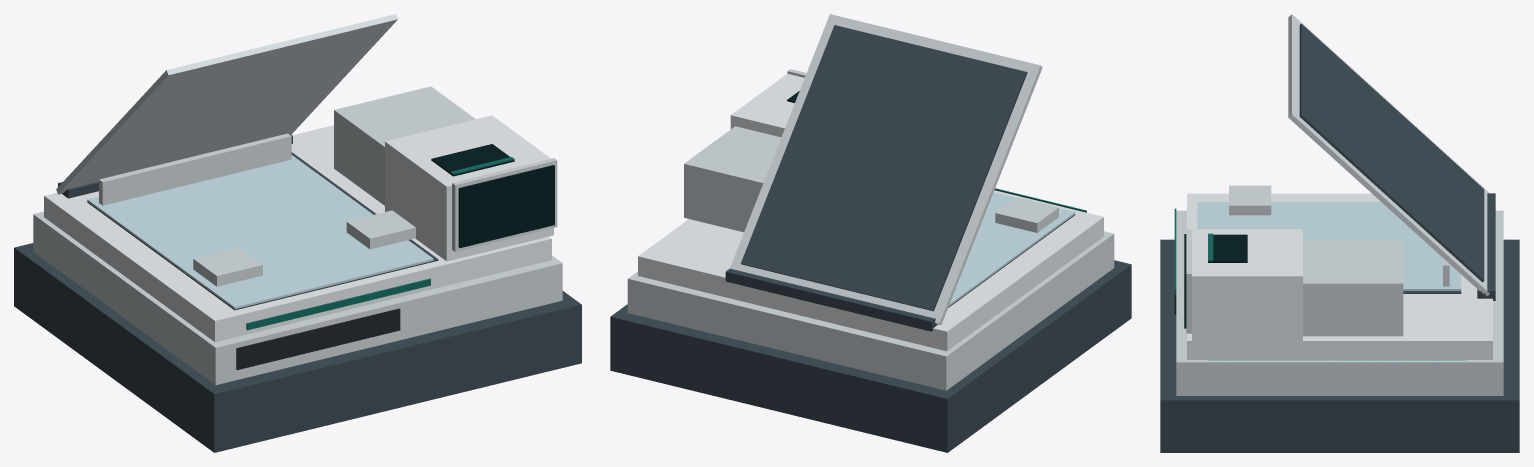
Rendered from desk_scanner.obj.
3 views of the same model, side by side, from view 1: azimuth 30°, elevation 25°; view 2: azimuth 150°, elevation 25°; view 3: azimuth 270°, elevation 25° (orthographic). The views are drawn at different scales.
Parts seen in each view (by area): view 1: desk_scanner_e00, desk_scanner_e04, desk_scanner_e05, desk_scanner_e01, desk_scanner_e02, desk_scanner_e11, desk_scanner_e12, desk_scanner_e14, desk_scanner_e10, desk_scanner_e17, desk_scanner_e07, desk_scanner_e08 (+4 smaller); view 2: desk_scanner_e06, desk_scanner_e00, desk_scanner_e01, desk_scanner_e02, desk_scanner_e05, desk_scanner_e12, desk_scanner_e04, desk_scanner_e09, desk_scanner_e11, desk_scanner_e07; view 3: desk_scanner_e00, desk_scanner_e06, desk_scanner_e01, desk_scanner_e02, desk_scanner_e11, desk_scanner_e12, desk_scanner_e04, desk_scanner_e05, desk_scanner_e07, desk_scanner_e09, desk_scanner_e15, desk_scanner_e13.
Boxes of the visible parts, box(x1,y1,x2,y2) form: desk_scanner_e00: box(14, 243, 581, 452); desk_scanner_e04: box(87, 155, 433, 309); desk_scanner_e05: box(56, 14, 397, 194); desk_scanner_e01: box(33, 211, 562, 384); desk_scanner_e02: box(44, 125, 551, 342); desk_scanner_e11: box(385, 115, 553, 261); desk_scanner_e12: box(334, 86, 475, 205); desk_scanner_e14: box(458, 165, 554, 247); desk_scanner_e10: box(99, 133, 291, 205); desk_scanner_e17: box(236, 308, 400, 370); desk_scanner_e07: box(193, 247, 262, 286); desk_scanner_e08: box(346, 210, 415, 249); desk_scanner_e06: box(741, 25, 1027, 311); desk_scanner_e00: box(610, 260, 1131, 452); desk_scanner_e01: box(627, 231, 1114, 390); desk_scanner_e02: box(638, 190, 1103, 351); desk_scanner_e05: box(730, 14, 1042, 325); desk_scanner_e12: box(684, 126, 781, 232); desk_scanner_e04: box(949, 192, 1075, 306); desk_scanner_e09: box(725, 268, 937, 331); desk_scanner_e11: box(730, 73, 804, 137); desk_scanner_e07: box(995, 197, 1058, 232); desk_scanner_e00: box(1160, 239, 1519, 452); desk_scanner_e06: box(1299, 23, 1484, 282); desk_scanner_e01: box(1176, 210, 1503, 395); desk_scanner_e02: box(1187, 193, 1492, 359); desk_scanner_e11: box(1192, 229, 1302, 343); desk_scanner_e12: box(1303, 241, 1403, 336); desk_scanner_e04: box(1197, 202, 1461, 290); desk_scanner_e05: box(1288, 14, 1489, 296); desk_scanner_e07: box(1229, 185, 1271, 215); desk_scanner_e09: box(1477, 193, 1495, 300); desk_scanner_e15: box(1208, 234, 1247, 262); desk_scanner_e13: box(1186, 229, 1191, 333).
Bounding box in the file's own units: 0.9 × 0.756 × 0.85.
